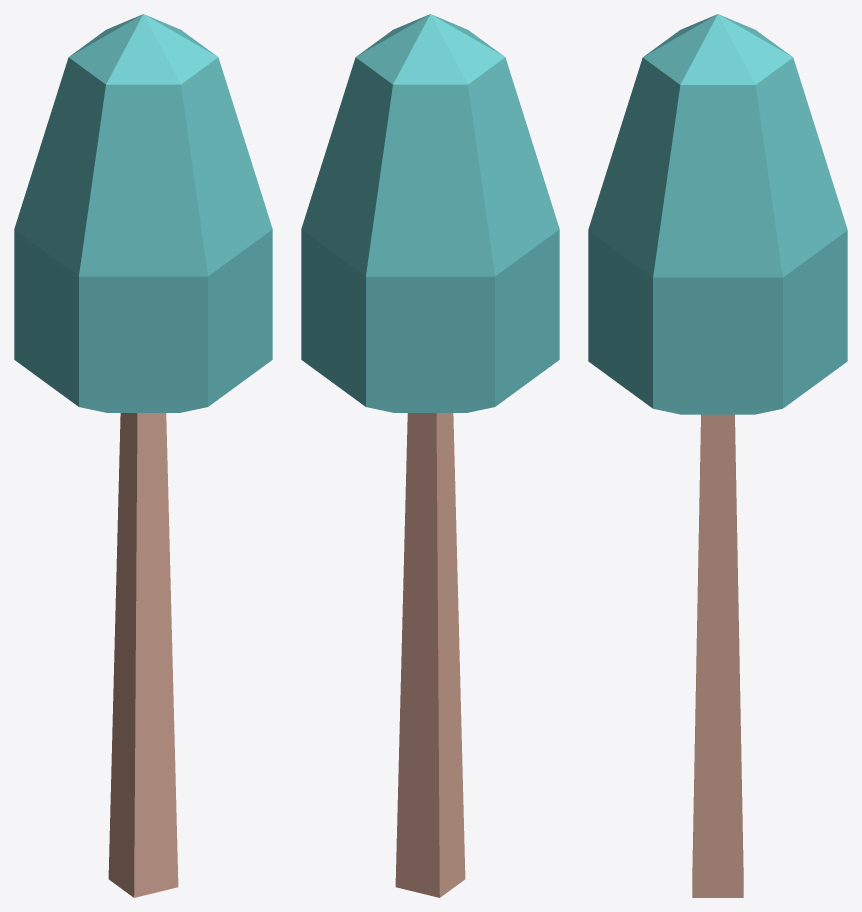
The model's file is tree_simple_dark.glb.
3 views of the same model, side by side, from view 1: azimuth 30°, elevation 25°; view 2: azimuth 150°, elevation 25°; view 3: azimuth 270°, elevation 25° (orthographic).
Visible parts, largest first — view 1: tree_simple_dark; view 2: tree_simple_dark; view 3: tree_simple_dark.
Boxes of the visible parts, x1,y1,x2,y2 form: tree_simple_dark: (14,14,272,897); tree_simple_dark: (301,14,559,897); tree_simple_dark: (588,14,847,897).
Size of the model in its own units: 0.3546 by 1.52 by 0.4095.
